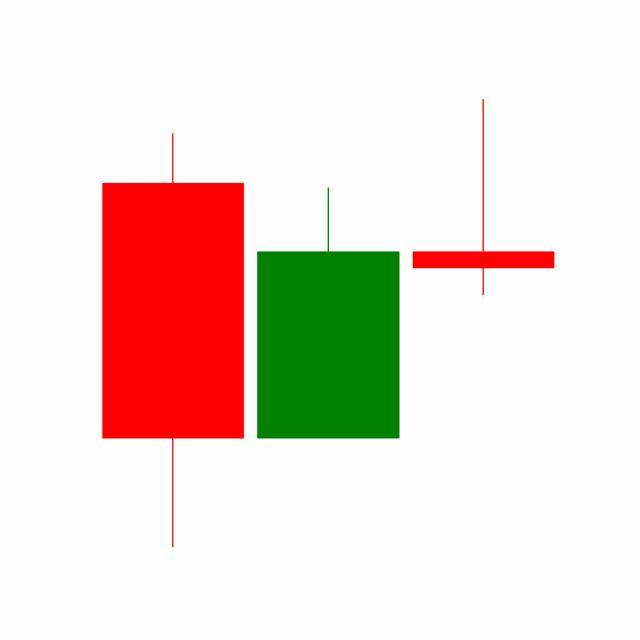Gravestone Doji: (406, 98, 562, 299)
